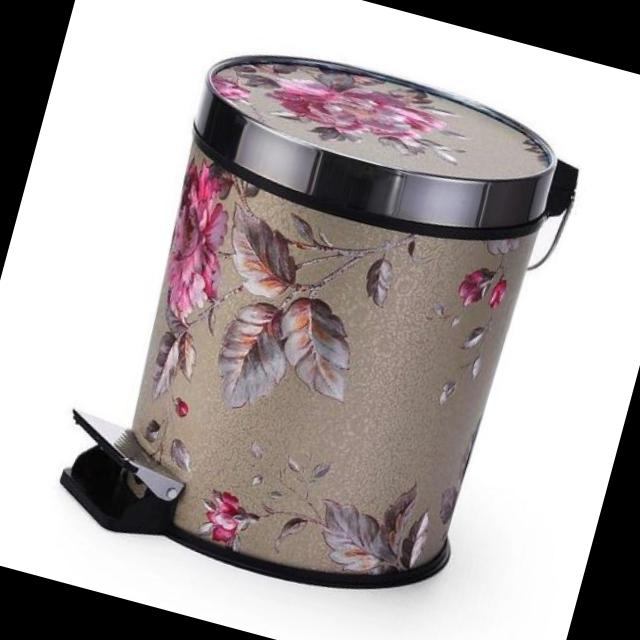dustbin: (35, 8, 600, 640)
